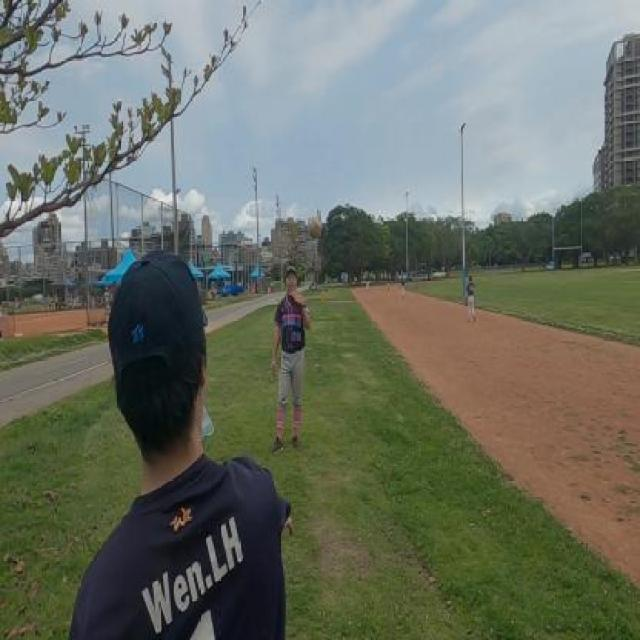baseball: (308, 215, 322, 239)
